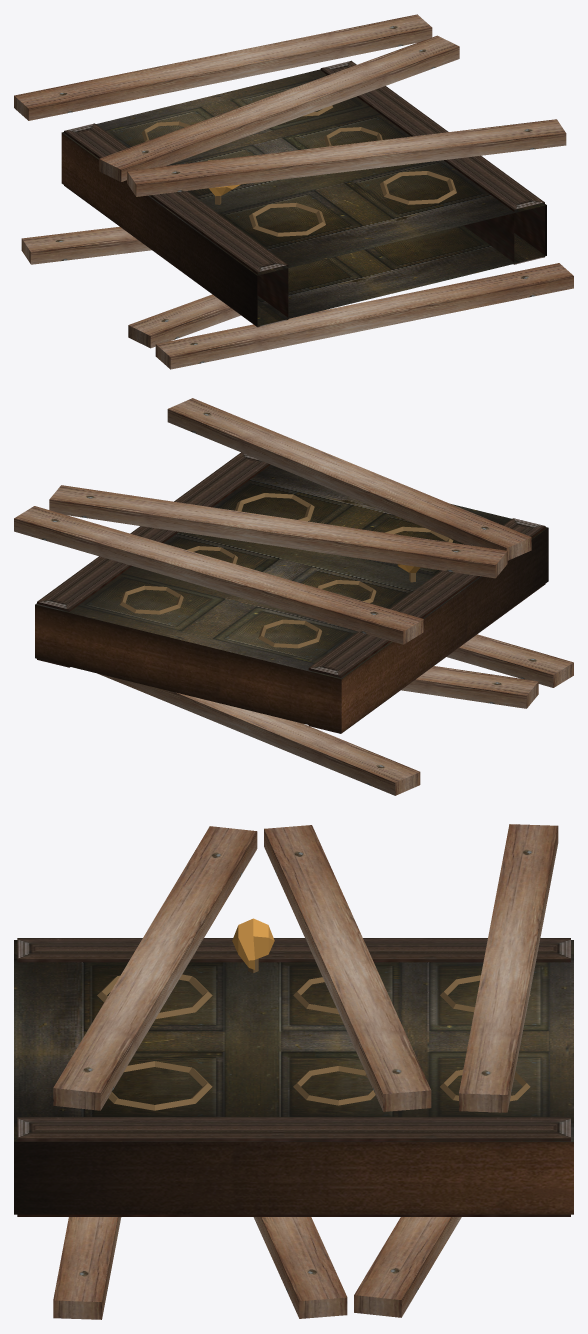
Rendered from DoorBlocked.fbx.
3 views of the same model, one above another, from view 1: azimuth 30°, elevation 25°; view 2: azimuth 150°, elevation 25°; view 3: azimuth 270°, elevation 25° (orthographic). The views are drawn at different scales.
Parts seen in each view (by area): view 1: DoorBlocked; view 2: DoorBlocked; view 3: DoorBlocked.
Part boxes in pixels (<box>): DoorBlocked: <box>14,14,573,369</box>; DoorBlocked: <box>14,398,573,795</box>; DoorBlocked: <box>14,824,573,1319</box>.
Bounding box in the file's own units: 0.04 × 0.0155 × 0.035.
